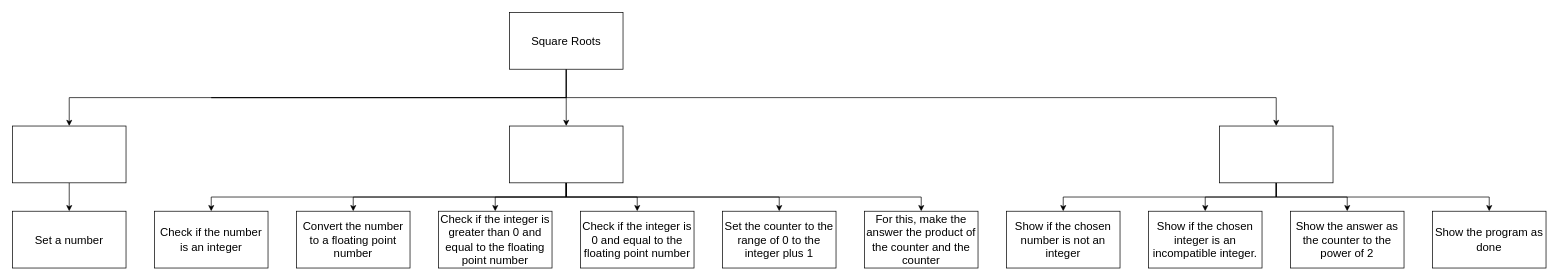
This 1558x280 diagram has some shape labels left out. The shapes that lost their labels are listed below. From the top down, each one's box as (x1, y1, x2, y2) in pixels, then its label:
(12, 125, 126, 183): Input
(509, 125, 623, 183): Process
(1219, 125, 1333, 183): Output
